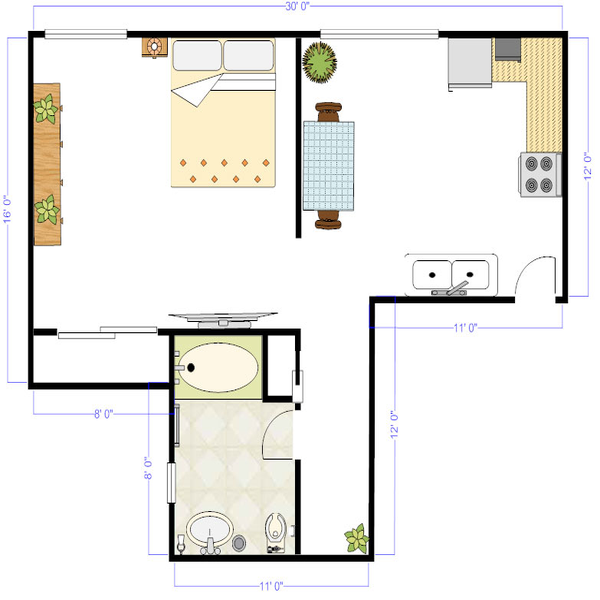door: (255, 407, 307, 463), (514, 251, 559, 304)
wall: (369, 294, 376, 561), (294, 34, 303, 240), (561, 36, 568, 300), (29, 33, 34, 390), (128, 31, 322, 40), (170, 554, 367, 562), (165, 337, 179, 448), (373, 296, 514, 306), (439, 29, 569, 39), (293, 457, 304, 554), (159, 327, 302, 334), (32, 384, 172, 391), (168, 505, 177, 562), (262, 335, 269, 402), (267, 394, 291, 405)
window: (323, 29, 438, 42), (57, 328, 159, 342), (43, 27, 126, 41), (165, 460, 178, 506)
